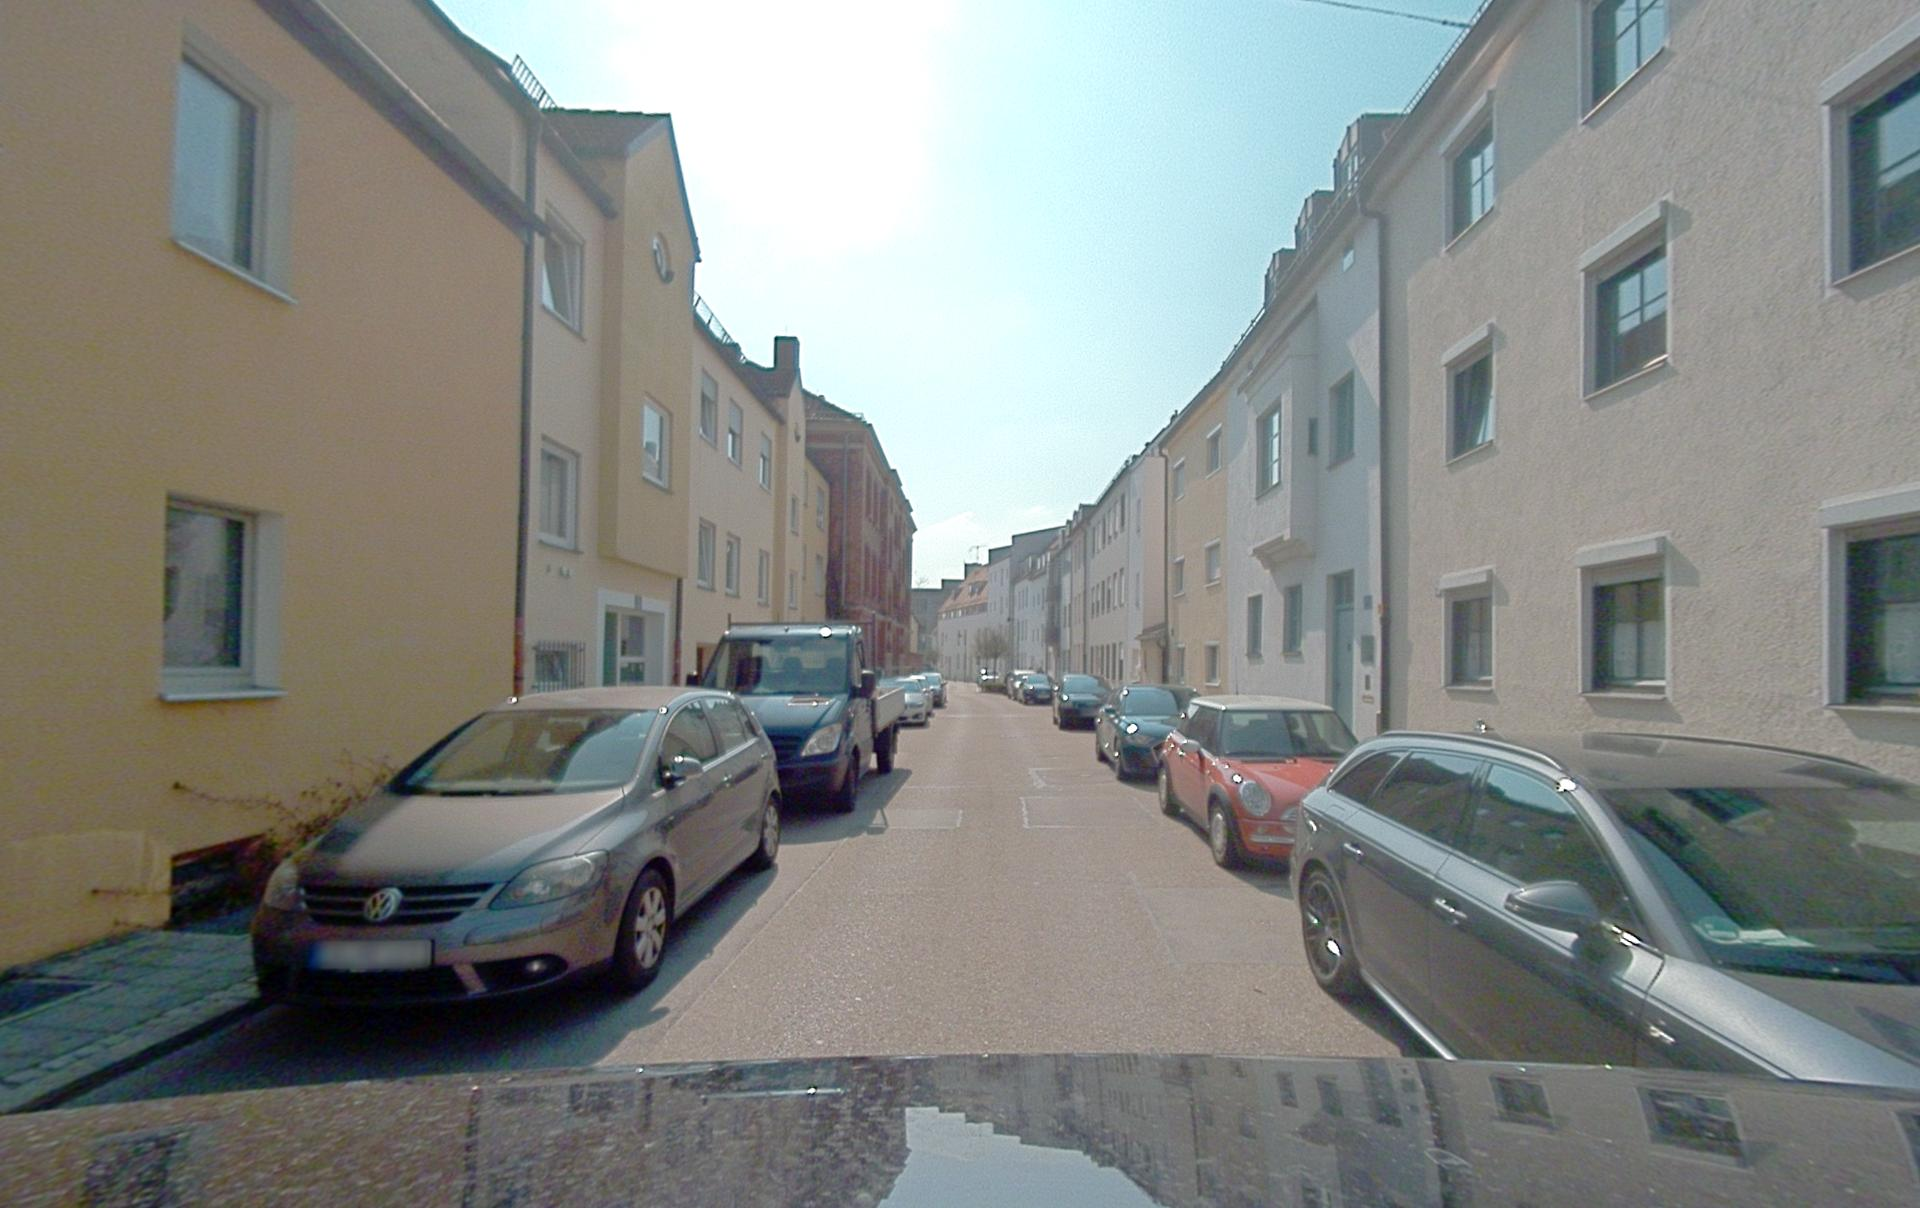car: (1290, 724, 1920, 1091), (250, 683, 783, 1015), (696, 621, 906, 813), (1158, 693, 1362, 870), (1094, 683, 1199, 781), (1053, 674, 1113, 729), (879, 675, 934, 726), (915, 671, 947, 708), (1018, 674, 1055, 706), (1006, 669, 1037, 701), (977, 669, 1003, 693)
